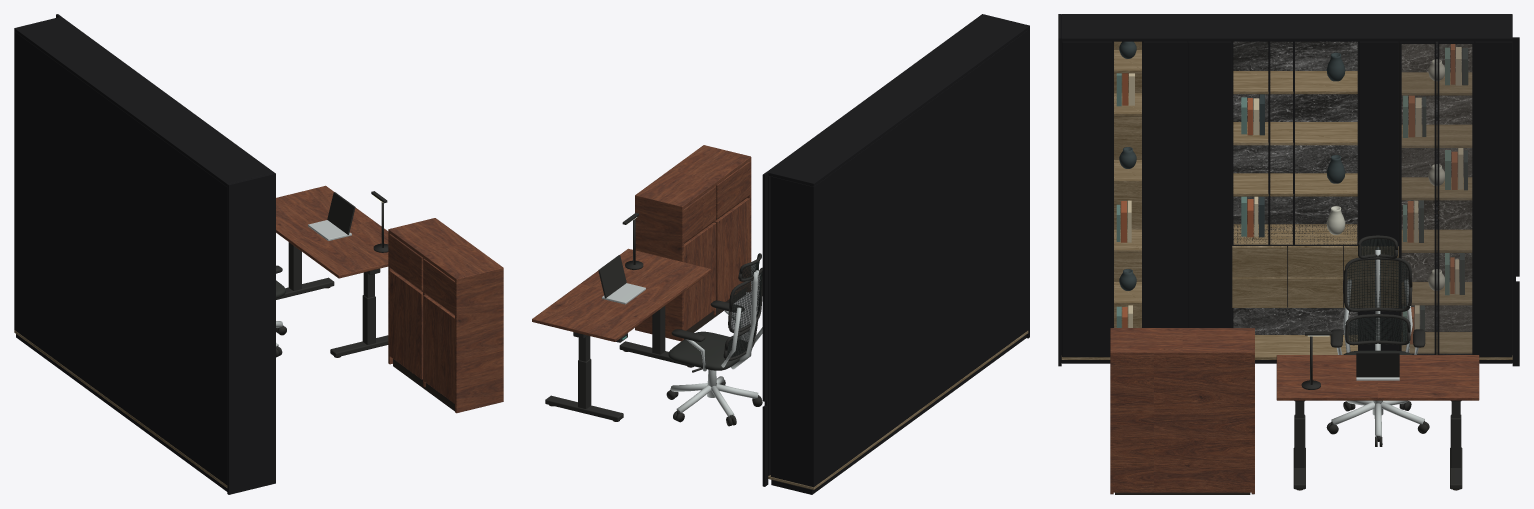
The model's file is study-web.glb.
3 views of the same model, side by side, from view 1: azimuth 30°, elevation 25°; view 2: azimuth 150°, elevation 25°; view 3: azimuth 270°, elevation 25° (orthographic). The views are drawn at different scales.
Visible parts, largest first — view 1: Furniture_study_bookcase, Furniture_study_side_cabinet, Furniture_study_standing_desk, Furniture_study_desktop_items; view 2: Furniture_study_bookcase, Furniture_study_side_cabinet, Furniture_study_standing_desk, Furniture_study_task_chair, Furniture_study_desktop_items; view 3: Furniture_study_bookcase, Furniture_study_side_cabinet, Furniture_study_standing_desk, Furniture_study_task_chair, Furniture_study_desktop_items.
Boxes of the visible parts, x1,y1,x2,y2 form: Furniture_study_bookcase: [14, 14, 275, 494]; Furniture_study_side_cabinet: [388, 218, 503, 413]; Furniture_study_standing_desk: [276, 185, 388, 357]; Furniture_study_desktop_items: [308, 191, 388, 252]; Furniture_study_bookcase: [762, 14, 1029, 494]; Furniture_study_side_cabinet: [635, 145, 751, 341]; Furniture_study_standing_desk: [532, 248, 711, 421]; Furniture_study_task_chair: [666, 253, 762, 426]; Furniture_study_desktop_items: [598, 213, 645, 304]; Furniture_study_bookcase: [1058, 14, 1519, 366]; Furniture_study_side_cabinet: [1110, 328, 1254, 494]; Furniture_study_standing_desk: [1276, 355, 1479, 490]; Furniture_study_task_chair: [1326, 235, 1429, 446]; Furniture_study_desktop_items: [1301, 332, 1399, 389].
Bounding box in the file's own units: 2.53 × 2.5 × 3.19.
21 materials, 4 textured.
